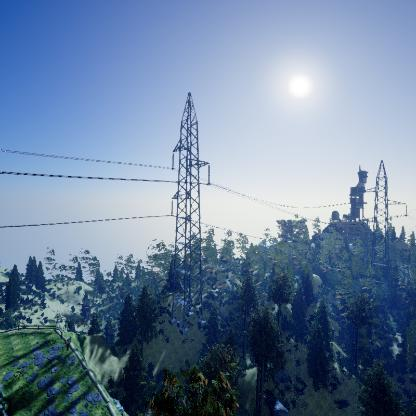tower: (168, 89, 215, 326), (356, 157, 410, 278)
